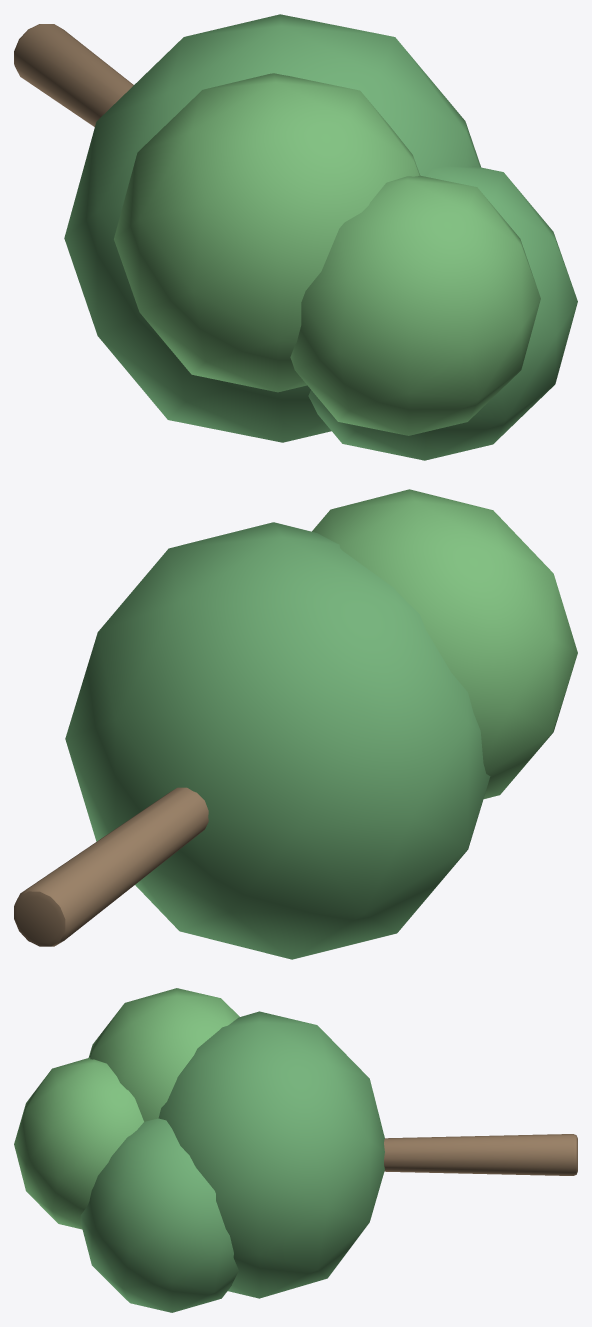
File: tree_city.glb
The picture shows the model from 3 angles, top to bottom: view 1: azimuth 30°, elevation 25°; view 2: azimuth 150°, elevation 25°; view 3: azimuth 270°, elevation 25°; orthographic projection. The views are drawn at different scales.
Visible parts, largest first — view 1: CanopyMidL, CanopyTop, CanopyLow, CanopyMidR, Trunk; view 2: CanopyLow, CanopyMidL, Trunk; view 3: CanopyLow, CanopyMidR, CanopyTop, CanopyMidL, Trunk.
Boxes of the visible parts, x1,y1,x2,y2 form: CanopyMidL: [114, 73, 419, 392]; CanopyTop: [290, 175, 540, 435]; CanopyLow: [64, 14, 481, 442]; CanopyMidR: [308, 166, 577, 460]; Trunk: [14, 24, 133, 126]; CanopyLow: [65, 522, 490, 959]; CanopyMidL: [312, 489, 577, 798]; Trunk: [14, 787, 208, 946]; CanopyLow: [158, 1011, 384, 1298]; CanopyMidR: [80, 1118, 238, 1312]; CanopyTop: [14, 1057, 143, 1229]; CanopyMidL: [88, 988, 239, 1121]; Trunk: [384, 1134, 577, 1175].
Bounding box in the file's own units: 1.32 × 1.26 × 2.39.
